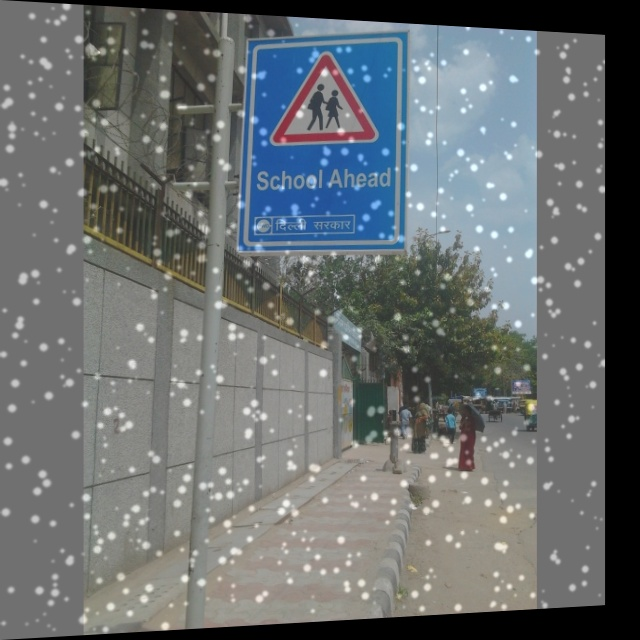School_Ahead: (264, 48, 390, 153)
